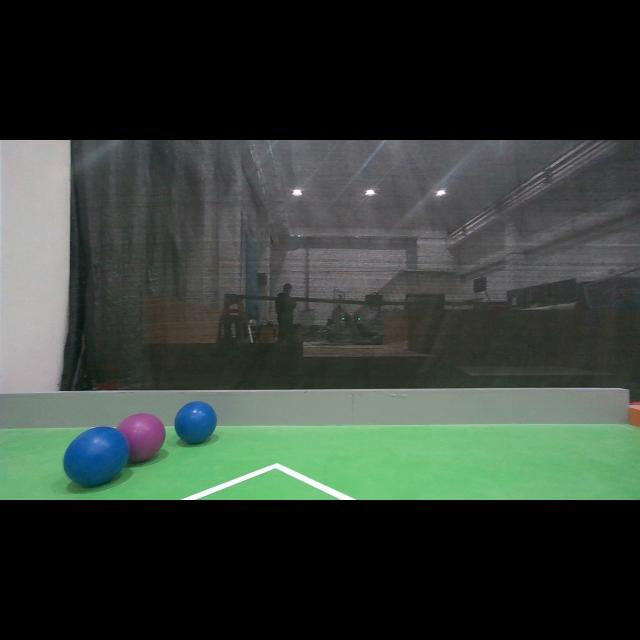B: (62, 427, 130, 488), (175, 402, 217, 444)
P: (116, 413, 166, 462)
